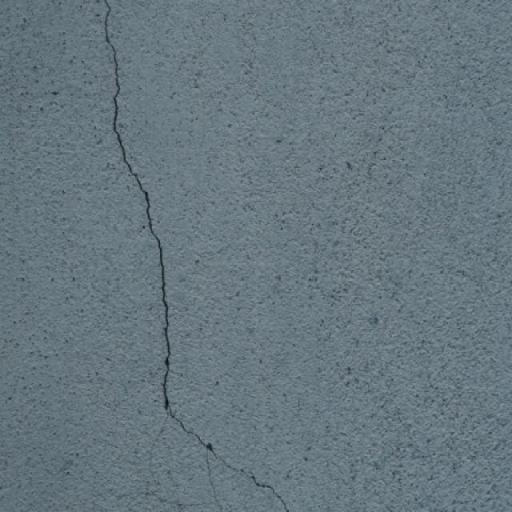moderate crack: (134, 176, 172, 414), (100, 0, 136, 182), (112, 476, 204, 508), (48, 454, 76, 480), (168, 499, 200, 506), (454, 268, 467, 277), (345, 160, 352, 170)
severe crack: (100, 9, 304, 508), (317, 172, 512, 505), (1, 95, 137, 366), (0, 375, 160, 510), (380, 6, 512, 167), (200, 431, 296, 510), (166, 403, 215, 460), (158, 346, 176, 420), (127, 169, 142, 182), (248, 474, 262, 487), (163, 397, 169, 409), (164, 355, 169, 367)
